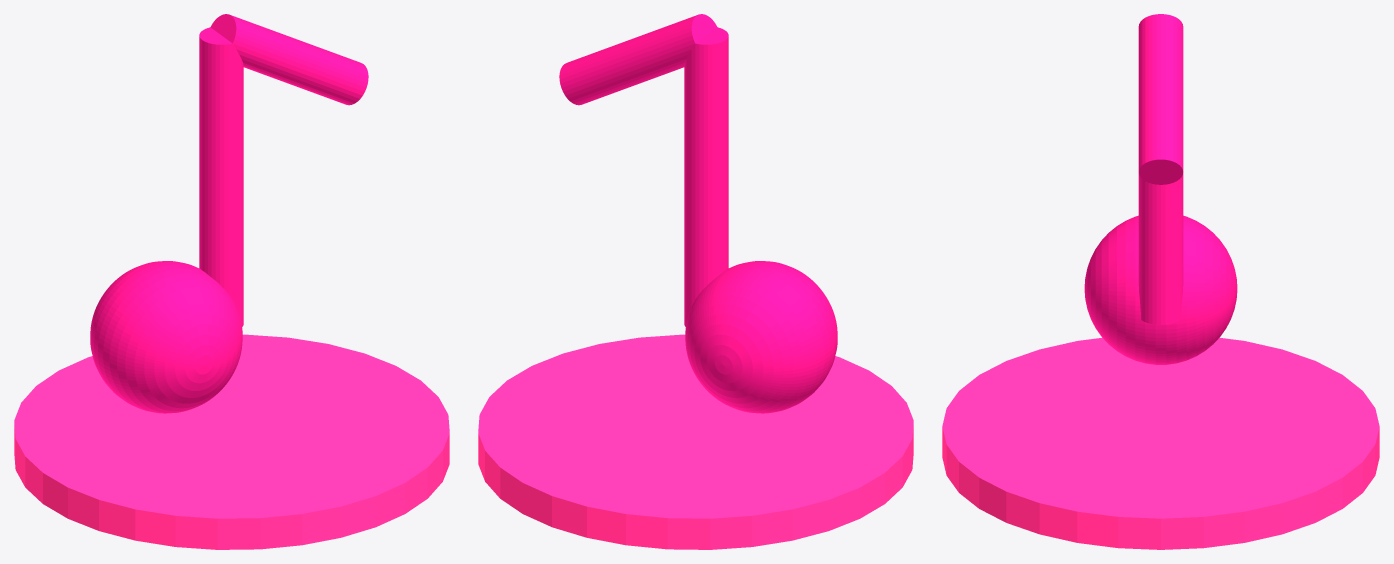
File: music_music_note.dae
The picture shows the model from 3 angles, left to right: view 1: azimuth 30°, elevation 25°; view 2: azimuth 150°, elevation 25°; view 3: azimuth 270°, elevation 25°; orthographic projection.
Visible parts, largest first — view 1: 07_05_Popular_Music_Music_Note_ROOT_base, 07_05_Popular_Music_Music_Note_part_01, 07_05_Popular_Music_Music_Note_part_02, 07_05_Popular_Music_Music_Note_part_03; view 2: 07_05_Popular_Music_Music_Note_ROOT_base, 07_05_Popular_Music_Music_Note_part_01, 07_05_Popular_Music_Music_Note_part_02, 07_05_Popular_Music_Music_Note_part_03; view 3: 07_05_Popular_Music_Music_Note_ROOT_base, 07_05_Popular_Music_Music_Note_part_01, 07_05_Popular_Music_Music_Note_part_03, 07_05_Popular_Music_Music_Note_part_02.
Part boxes in pixels (x1,y1,x2,y2): 07_05_Popular_Music_Music_Note_ROOT_base: [14, 334, 449, 549]; 07_05_Popular_Music_Music_Note_part_01: [90, 261, 242, 413]; 07_05_Popular_Music_Music_Note_part_02: [199, 27, 243, 326]; 07_05_Popular_Music_Music_Note_part_03: [210, 14, 368, 105]; 07_05_Popular_Music_Music_Note_ROOT_base: [478, 334, 913, 549]; 07_05_Popular_Music_Music_Note_part_01: [685, 261, 837, 413]; 07_05_Popular_Music_Music_Note_part_02: [684, 27, 728, 326]; 07_05_Popular_Music_Music_Note_part_03: [559, 14, 717, 105]; 07_05_Popular_Music_Music_Note_ROOT_base: [942, 337, 1379, 549]; 07_05_Popular_Music_Music_Note_part_01: [1084, 215, 1237, 364]; 07_05_Popular_Music_Music_Note_part_03: [1138, 14, 1183, 184]; 07_05_Popular_Music_Music_Note_part_02: [1138, 173, 1183, 324].
Bounding box in the file's own units: 0.76 × 0.85 × 0.76.
